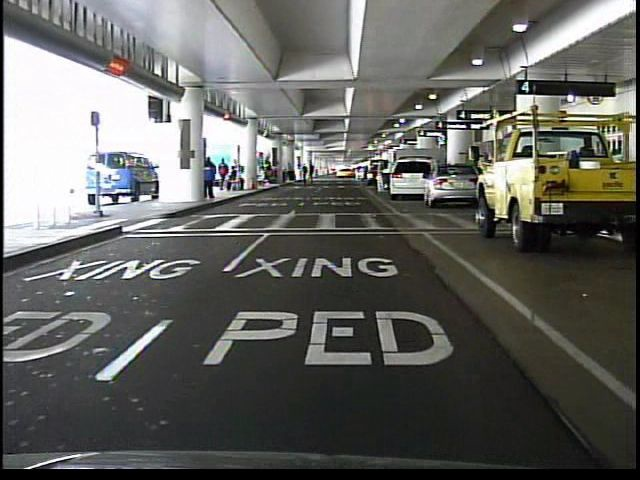person: (201, 154, 220, 203)
